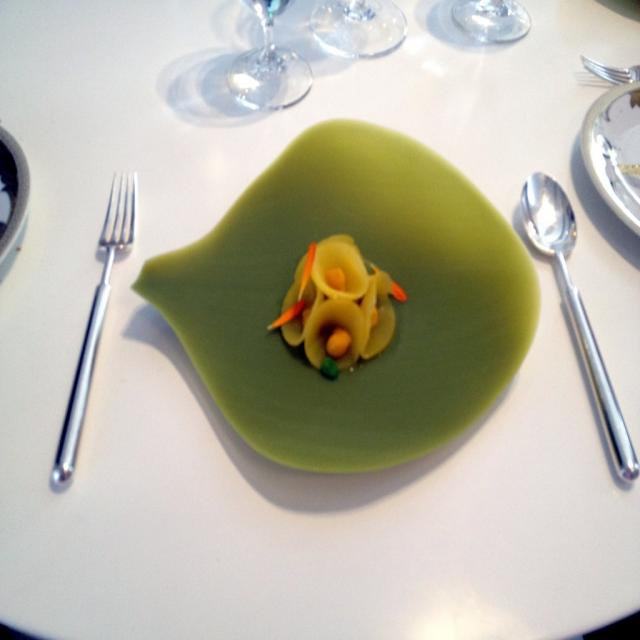non-organic waste: (97, 90, 551, 507)
